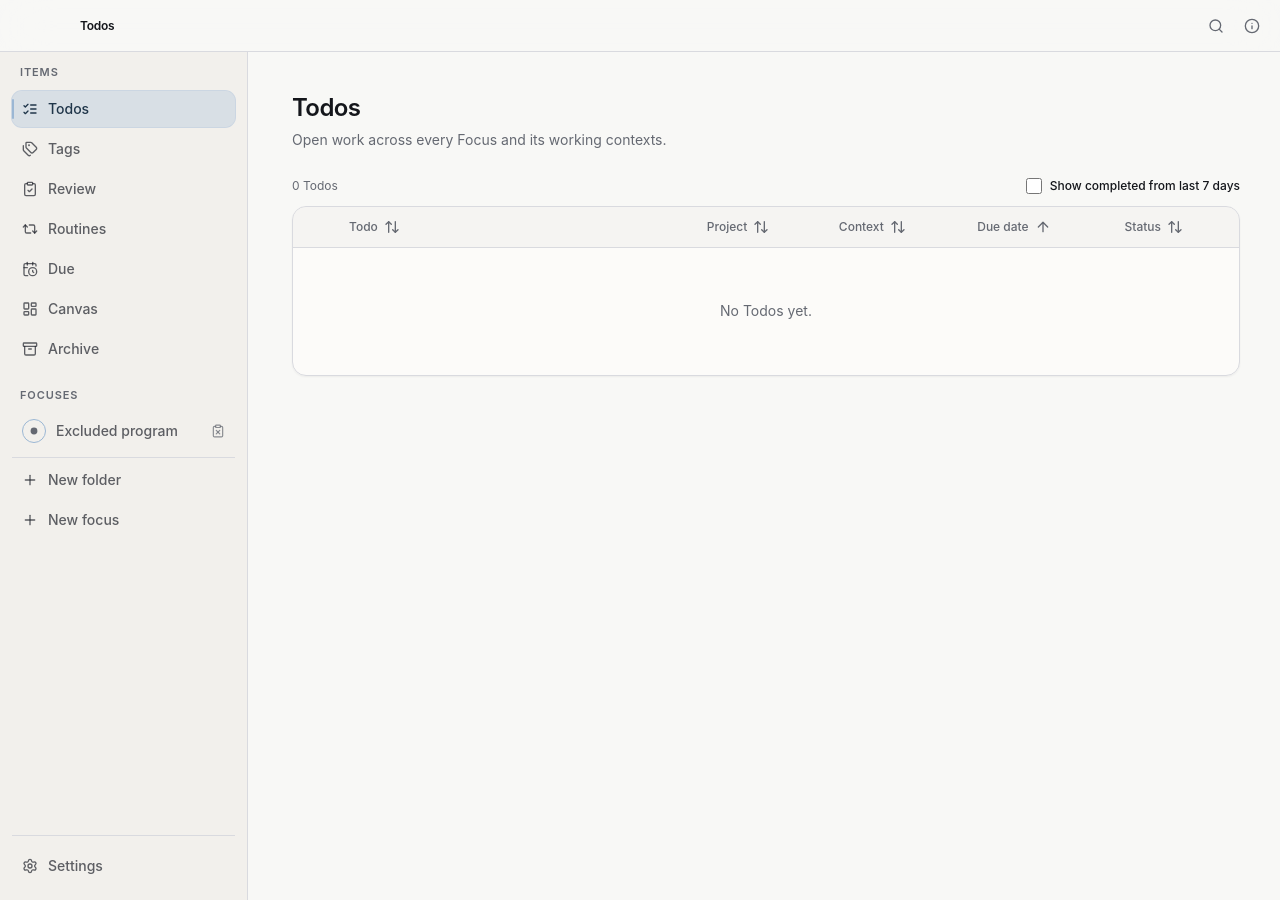
Test: App › excludes Routine attestations beneath a Focus that disables descendant review tracking
Click the button "Routines". click: (124, 228)
box: [12, 210, 235, 246]
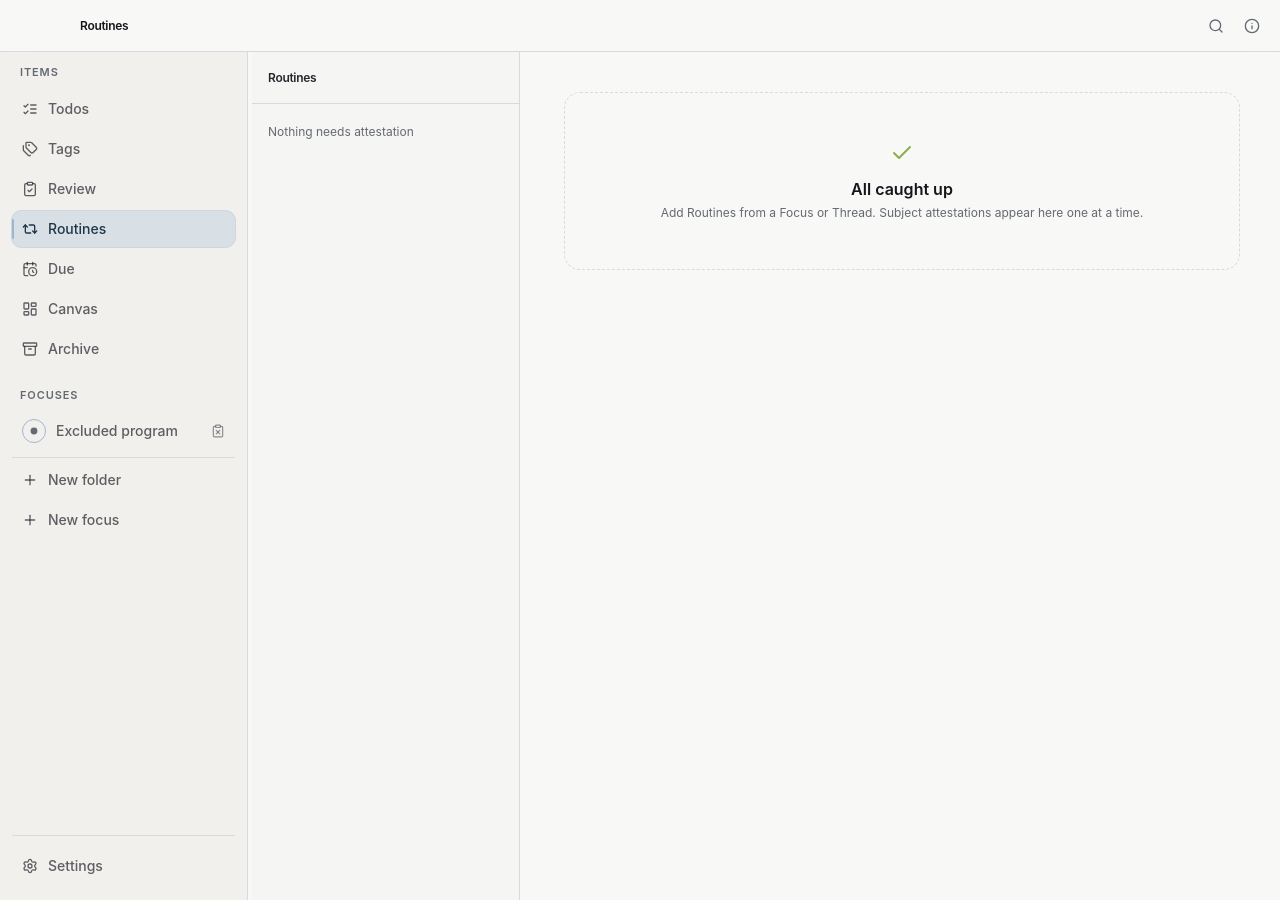
Result: the heading "All caught up" is shown at [851, 179, 953, 199]
